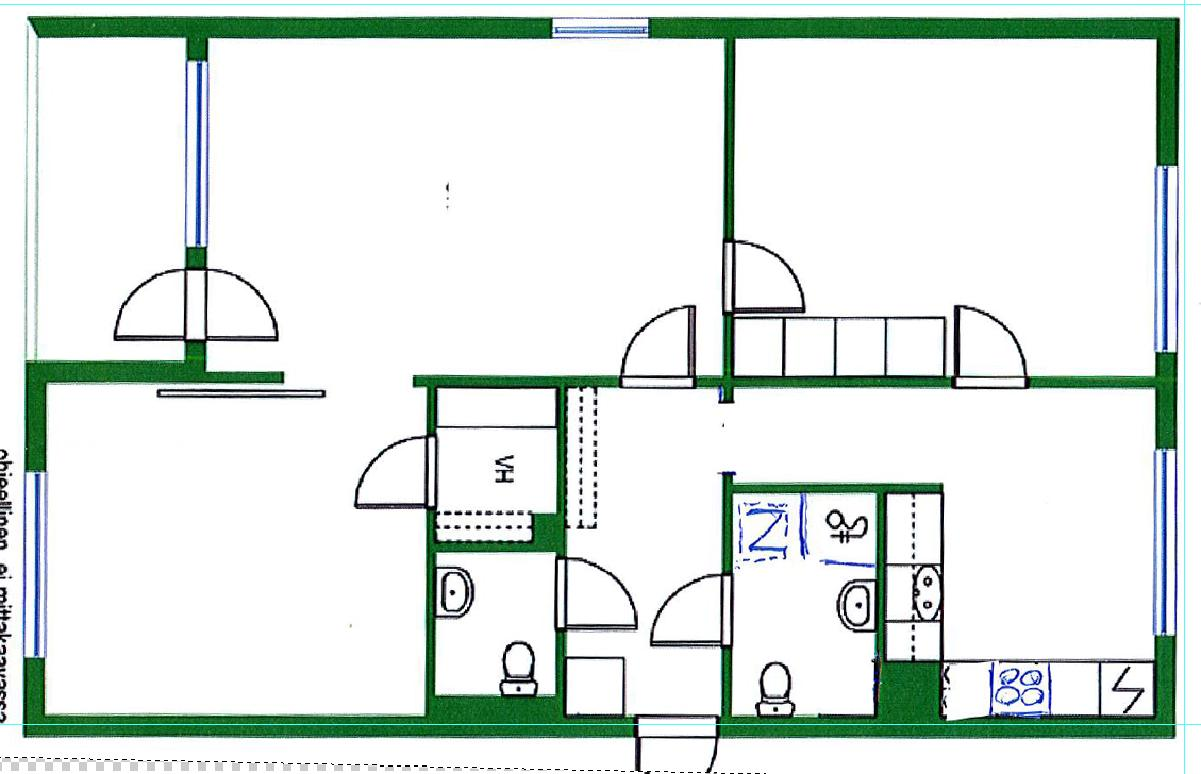door: (104, 264, 285, 343), (351, 420, 440, 521), (951, 305, 1035, 399), (645, 572, 736, 654), (623, 304, 706, 393), (719, 237, 812, 314), (552, 559, 636, 637), (628, 711, 726, 774)
window: (1151, 163, 1181, 352), (1155, 452, 1181, 637), (182, 61, 206, 250), (547, 14, 654, 42), (30, 470, 43, 662)
zone: (565, 387, 1156, 719), (215, 43, 719, 373), (736, 34, 1153, 373), (45, 378, 418, 717), (37, 33, 183, 362), (727, 497, 878, 713), (437, 386, 556, 543), (438, 552, 555, 694)
